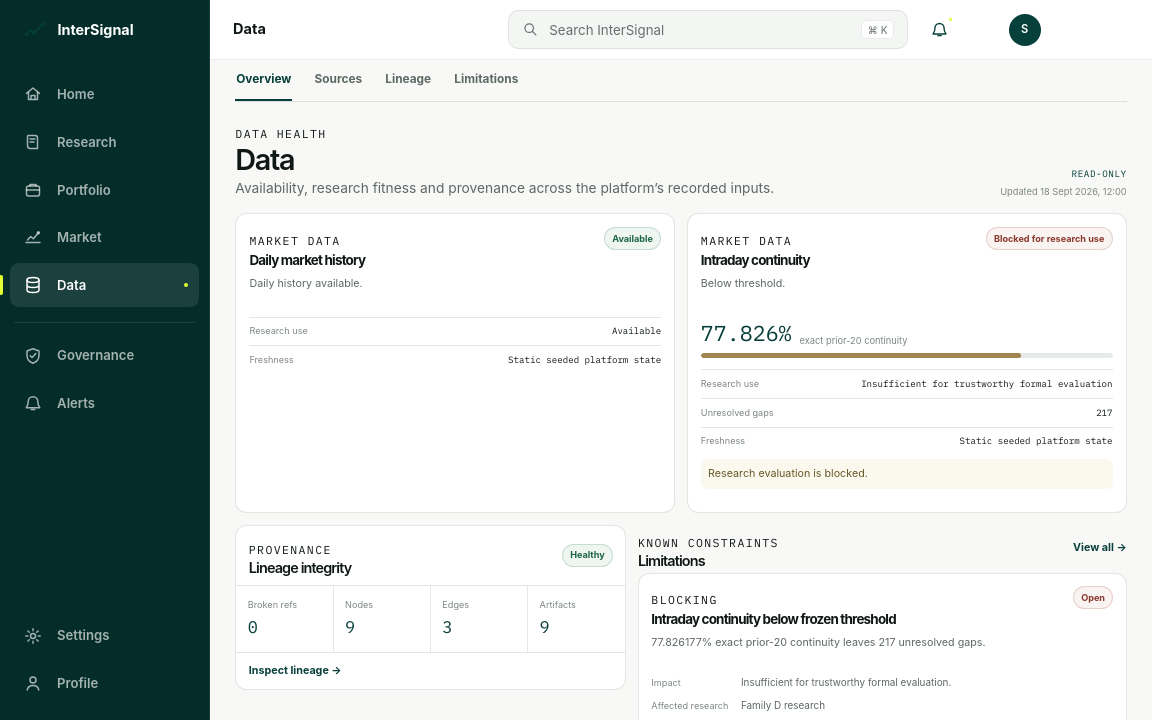
Test: Data pages › renders backend truth and exposes deep command destinations
expect the heading "Data" is shown: met, box [235,142,294,177]
expect the text "77.826%" is shown: met, box [701,317,792,351]
Click the button "Search InterSignal ⌘ K": [607, 30] box [508,10,908,49]
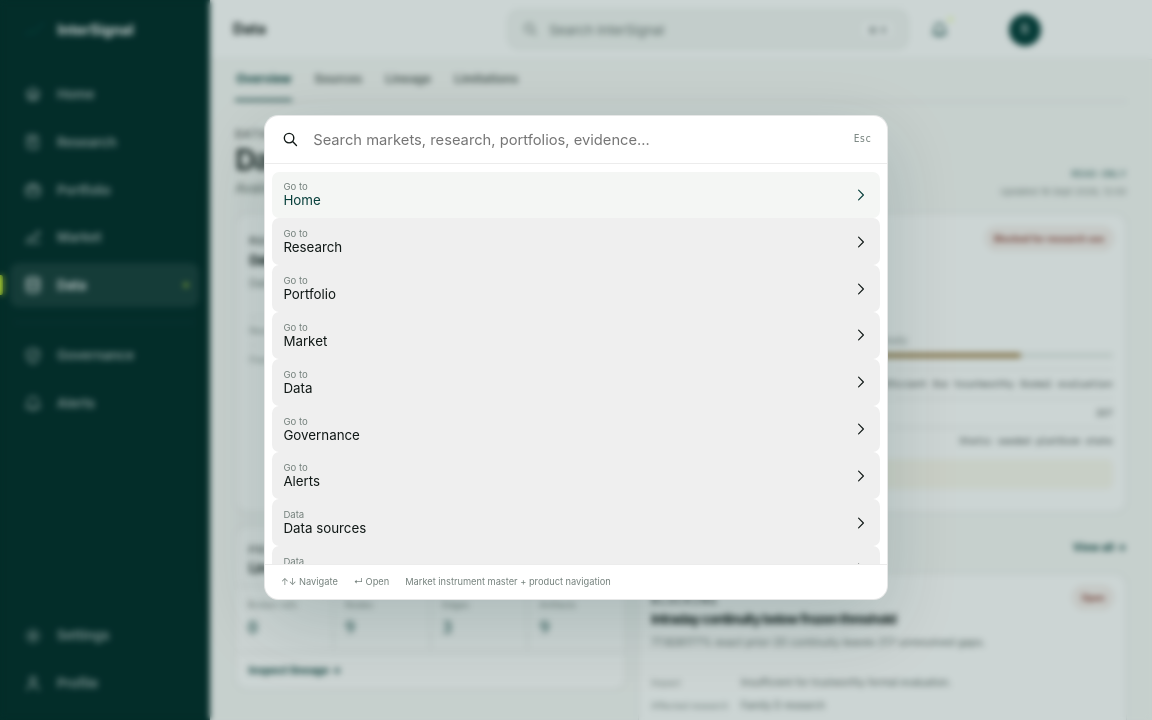
In the field named "Search commands": [577, 140] box [311,130,842,150], type "limitations"
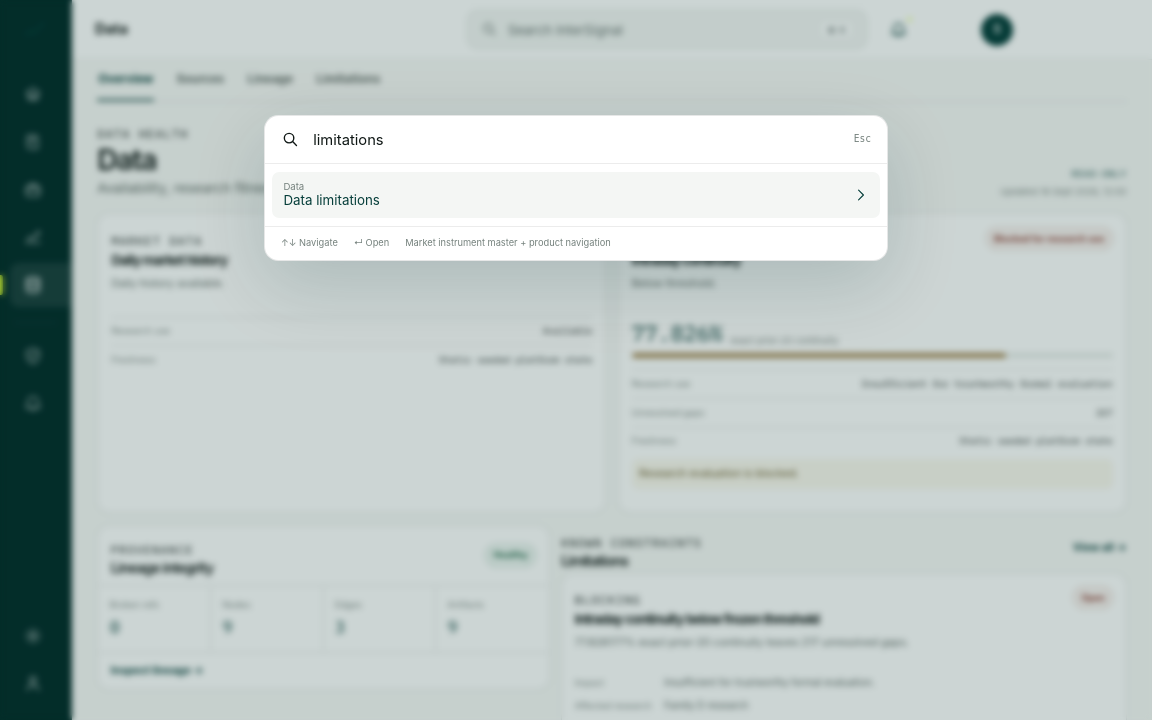
expect the option "Data Data limitations" is shown: met, box [272,172,880,218]
